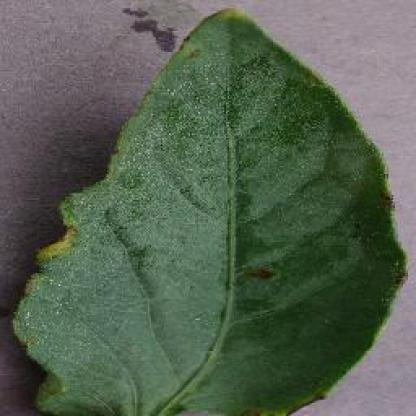bad leaf: (362, 197, 416, 301), (27, 210, 91, 263), (228, 386, 320, 414), (214, 251, 286, 286)
